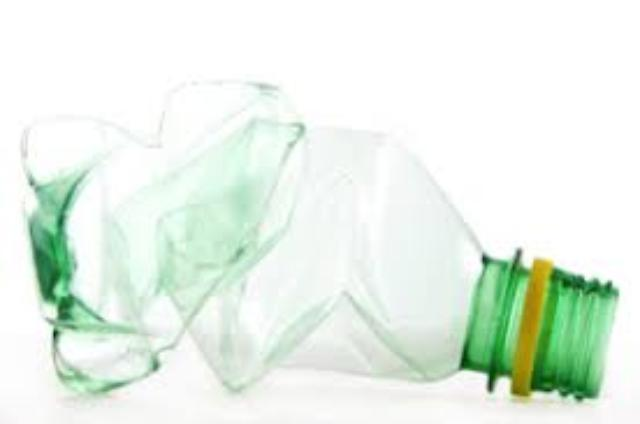plastic: (19, 79, 614, 394)
